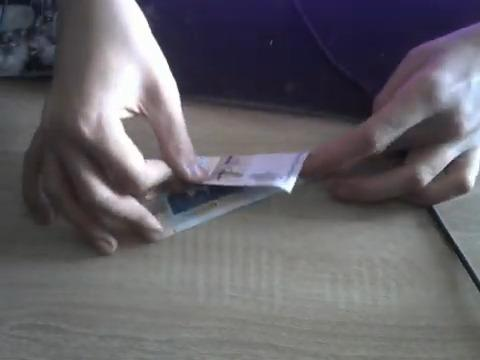20leva: (170, 152, 309, 231)
